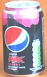pepsi: (2, 1, 45, 77)
